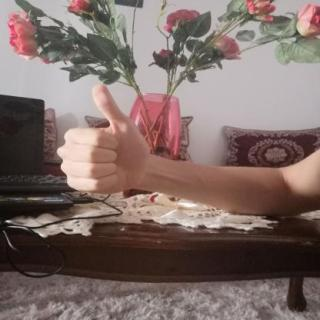ALIF: (38, 72, 163, 202)
